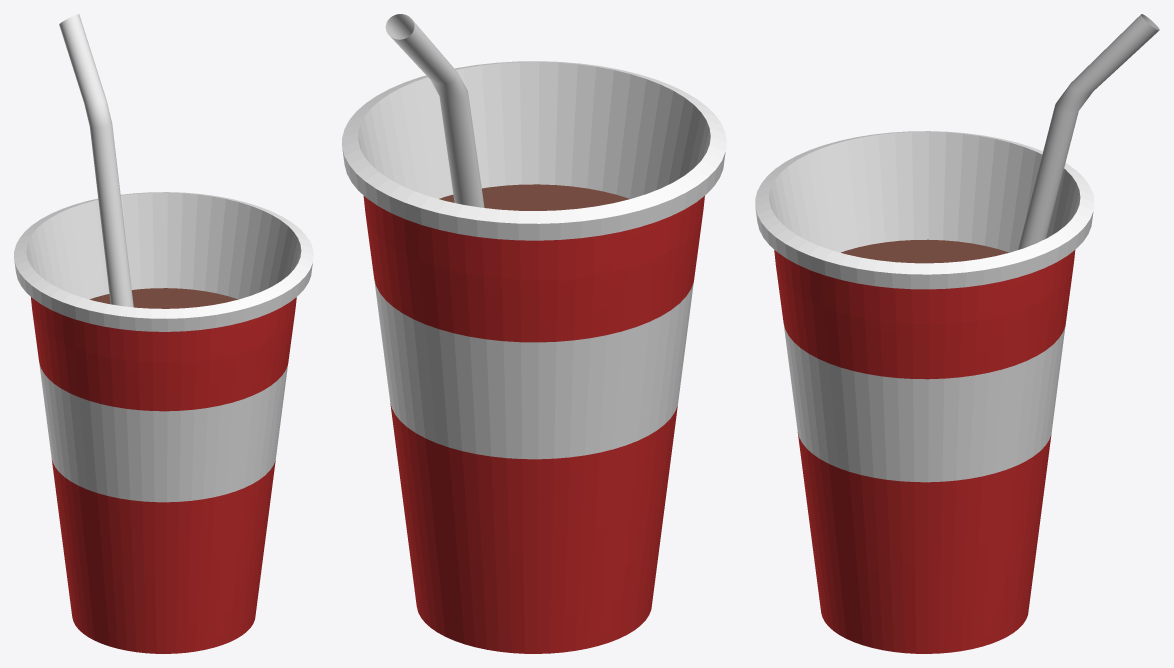
The model's file is ColaCup.fbx.
The picture shows the model from 3 angles, left to right: view 1: azimuth 30°, elevation 25°; view 2: azimuth 150°, elevation 25°; view 3: azimuth 270°, elevation 25°; orthographic projection. The views are drawn at different scales.
Parts seen in each view (by area): view 1: Cup, Pipe, Cola; view 2: Cup, Pipe, Cola; view 3: Cup, Pipe, Cola.
Part boxes in pixels (box(x1,y1,x2,y2)): Cup: box(14, 192, 313, 653); Pipe: box(59, 14, 133, 307); Cola: box(89, 288, 238, 308); Cup: box(342, 61, 726, 653); Pipe: box(385, 14, 484, 207); Cola: box(439, 184, 629, 210); Cup: box(755, 131, 1094, 653); Pipe: box(1018, 14, 1159, 249); Cola: box(841, 239, 1008, 263).
Bounding box in the file's own units: 278 × 540 × 331.
